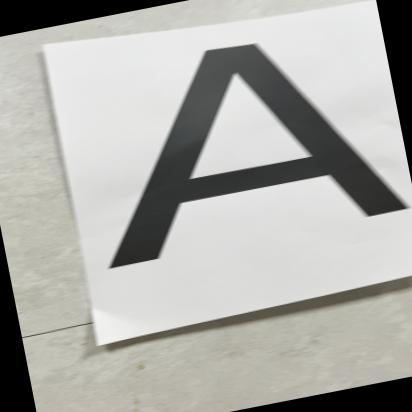seat: (49, 0, 412, 314)
